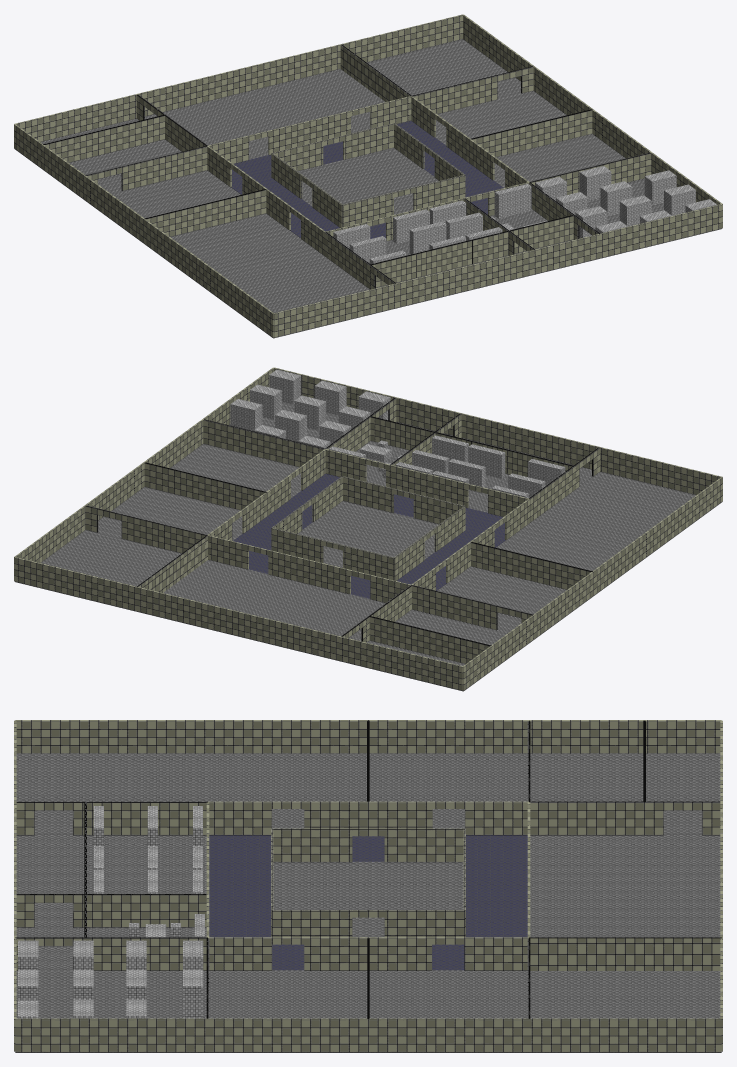
File: map_gamelevel.fbx
3 renders of one model, top to bottom at view 1: azimuth 30°, elevation 25°; view 2: azimuth 150°, elevation 25°; view 3: azimuth 270°, elevation 25°, orthographic. The views are drawn at different scales.
Visible parts, largest first — view 1: WallCmain, tilleC001, tilleC007, tilleA001, tilleD001, tilleD004, WallB005, tilleC008, tilleC004, tilleC003, tilleC002, WallD004 (+36 smaller); view 2: WallCmain, tilleD004, tilleA001, tilleC007, tilleD001, WallB005, WallB004, tilleC004, tilleC008, tilleC002, tilleC003, tilleC001 (+36 smaller); view 3: WallCmain, tilleC008, tilleD004, tilleD003, tilleA001, tilleC006, tilleD001, WallB007, WallB006, tilleC001, tilleC002, tilleC003 (+32 smaller).
Boxes of the visible parts, left/top/right/bottom form: WallCmain: left=14, top=14, right=722, bottom=337; tilleC001: left=144, top=213, right=323, bottom=286; tilleC007: left=240, top=69, right=385, bottom=133; tilleA001: left=298, top=148, right=438, bottom=214; tilleD001: left=367, top=39, right=520, bottom=98; tilleD004: left=203, top=256, right=395, bottom=338; WallB005: left=208, top=96, right=411, bottom=163; tilleC008: left=145, top=93, right=284, bottom=159; tilleC004: left=435, top=91, right=566, bottom=145; tilleC003: left=494, top=134, right=625, bottom=187; tilleC002: left=85, top=170, right=240, bottom=243; WallD004: left=471, top=109, right=592, bottom=157; WallCmain: left=14, top=367, right=722, bottom=690; tilleD004: left=530, top=472, right=721, bottom=553; tilleA001: left=298, top=501, right=438, bottom=567; tilleC007: left=137, top=560, right=308, bottom=636; tilleD001: left=15, top=530, right=181, bottom=611; WallB005: left=208, top=535, right=411, bottom=603; WallB004: left=325, top=449, right=529, bottom=516; tilleC004: left=98, top=487, right=242, bottom=540; tilleC008: left=239, top=584, right=385, bottom=661; tilleC002: left=437, top=566, right=592, bottom=639; tilleC003: left=170, top=444, right=301, bottom=497; tilleC001: left=496, top=523, right=651, bottom=596; WallCmain: left=14, top=720, right=722, bottom=1052; tilleC008: left=530, top=834, right=720, bottom=902; tilleD004: left=16, top=753, right=207, bottom=834; tilleD003: left=530, top=753, right=720, bottom=834; tilleA001: left=273, top=861, right=463, bottom=937; tilleC006: left=16, top=834, right=206, bottom=893; tilleD001: left=529, top=971, right=721, bottom=1052; WallB007: left=208, top=937, right=528, bottom=970; WallB006: left=208, top=801, right=528, bottom=835; tilleC001: left=208, top=753, right=366, bottom=828; tilleC002: left=369, top=753, right=527, bottom=828; tilleC003: left=208, top=970, right=368, bottom=1052.
Size of the model in its own units: 2761 by 145 by 2761.
